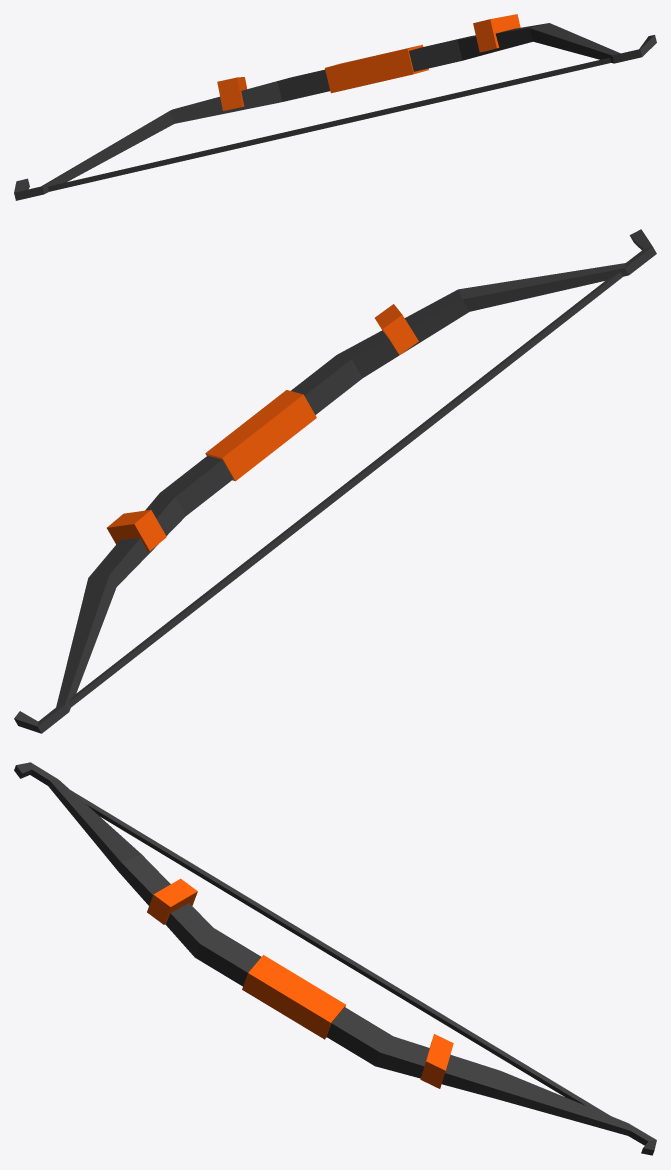
The model's file is item.obj.
The picture shows the model from 3 angles, top to bottom: view 1: azimuth 90°, elevation 25°; view 2: azimuth 150°, elevation 25°; view 3: azimuth 270°, elevation 25°; orthographic projection. The views are drawn at different scales.
Parts seen in each view (by area): view 1: Cube.219_Cube.002; view 2: Cube.219_Cube.002; view 3: Cube.219_Cube.002.
Boxes of the visible parts, bbox=[...] form: Cube.219_Cube.002: bbox=[14, 14, 656, 200]; Cube.219_Cube.002: bbox=[14, 229, 656, 733]; Cube.219_Cube.002: bbox=[14, 762, 656, 1155].
Size of the model in its own units: 0.5258 by 0.4796 by 1.02.
